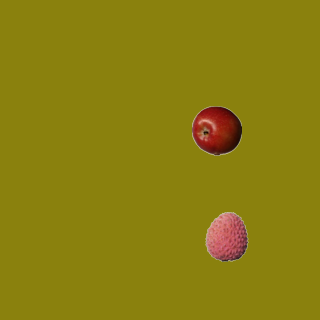Apple Braeburn: (191, 105, 241, 155)
Lychee: (201, 211, 251, 261)
